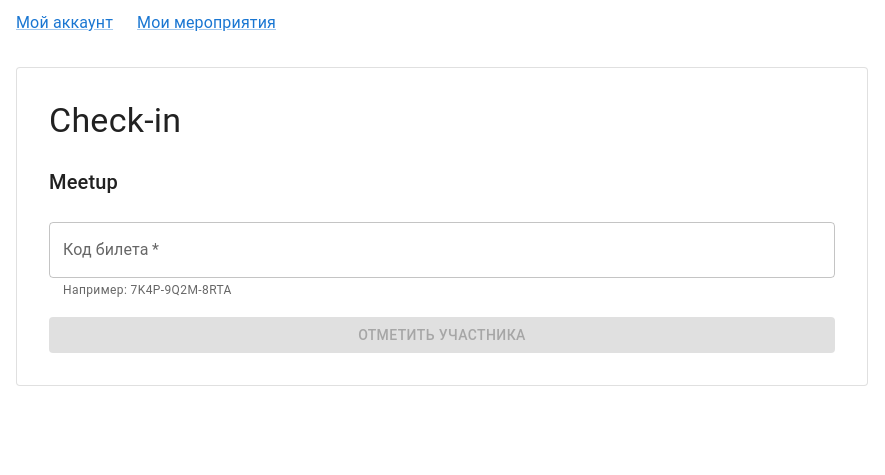
shows safe error TICKET_ALREADY_CHECKED_IN without retry
Type "7k4p-9q2m-8rta" into the field labelled "Код билета *". click: (442, 250)
box: x1=49 y1=222 x2=835 y2=278
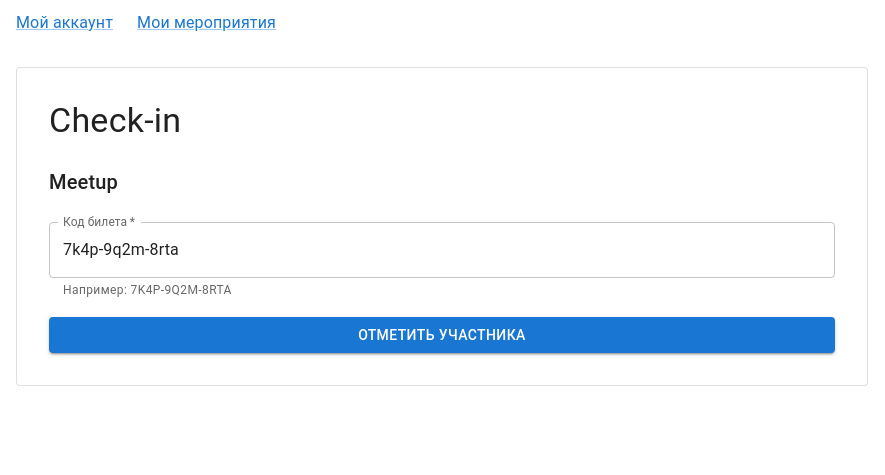
Click the button "Отметить участника". click: (442, 335)
box: x1=49 y1=317 x2=835 y2=353
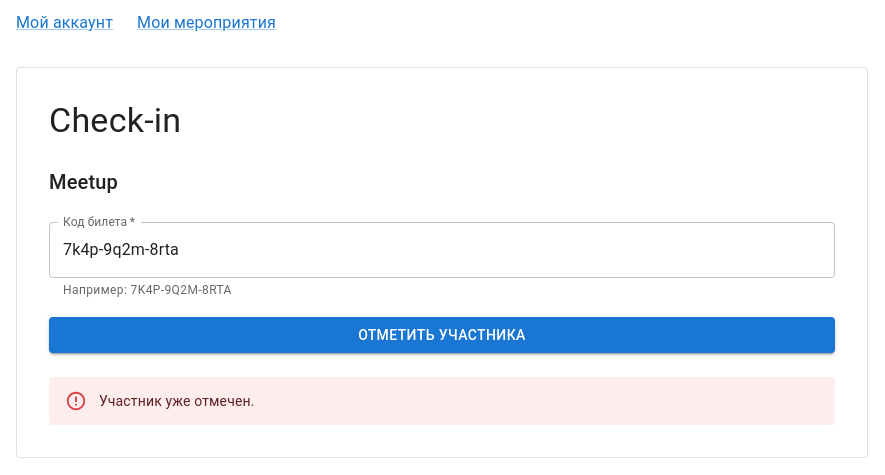
Result: the message shows "уже отмечен" at x1=99 y1=393 x2=255 y2=409
